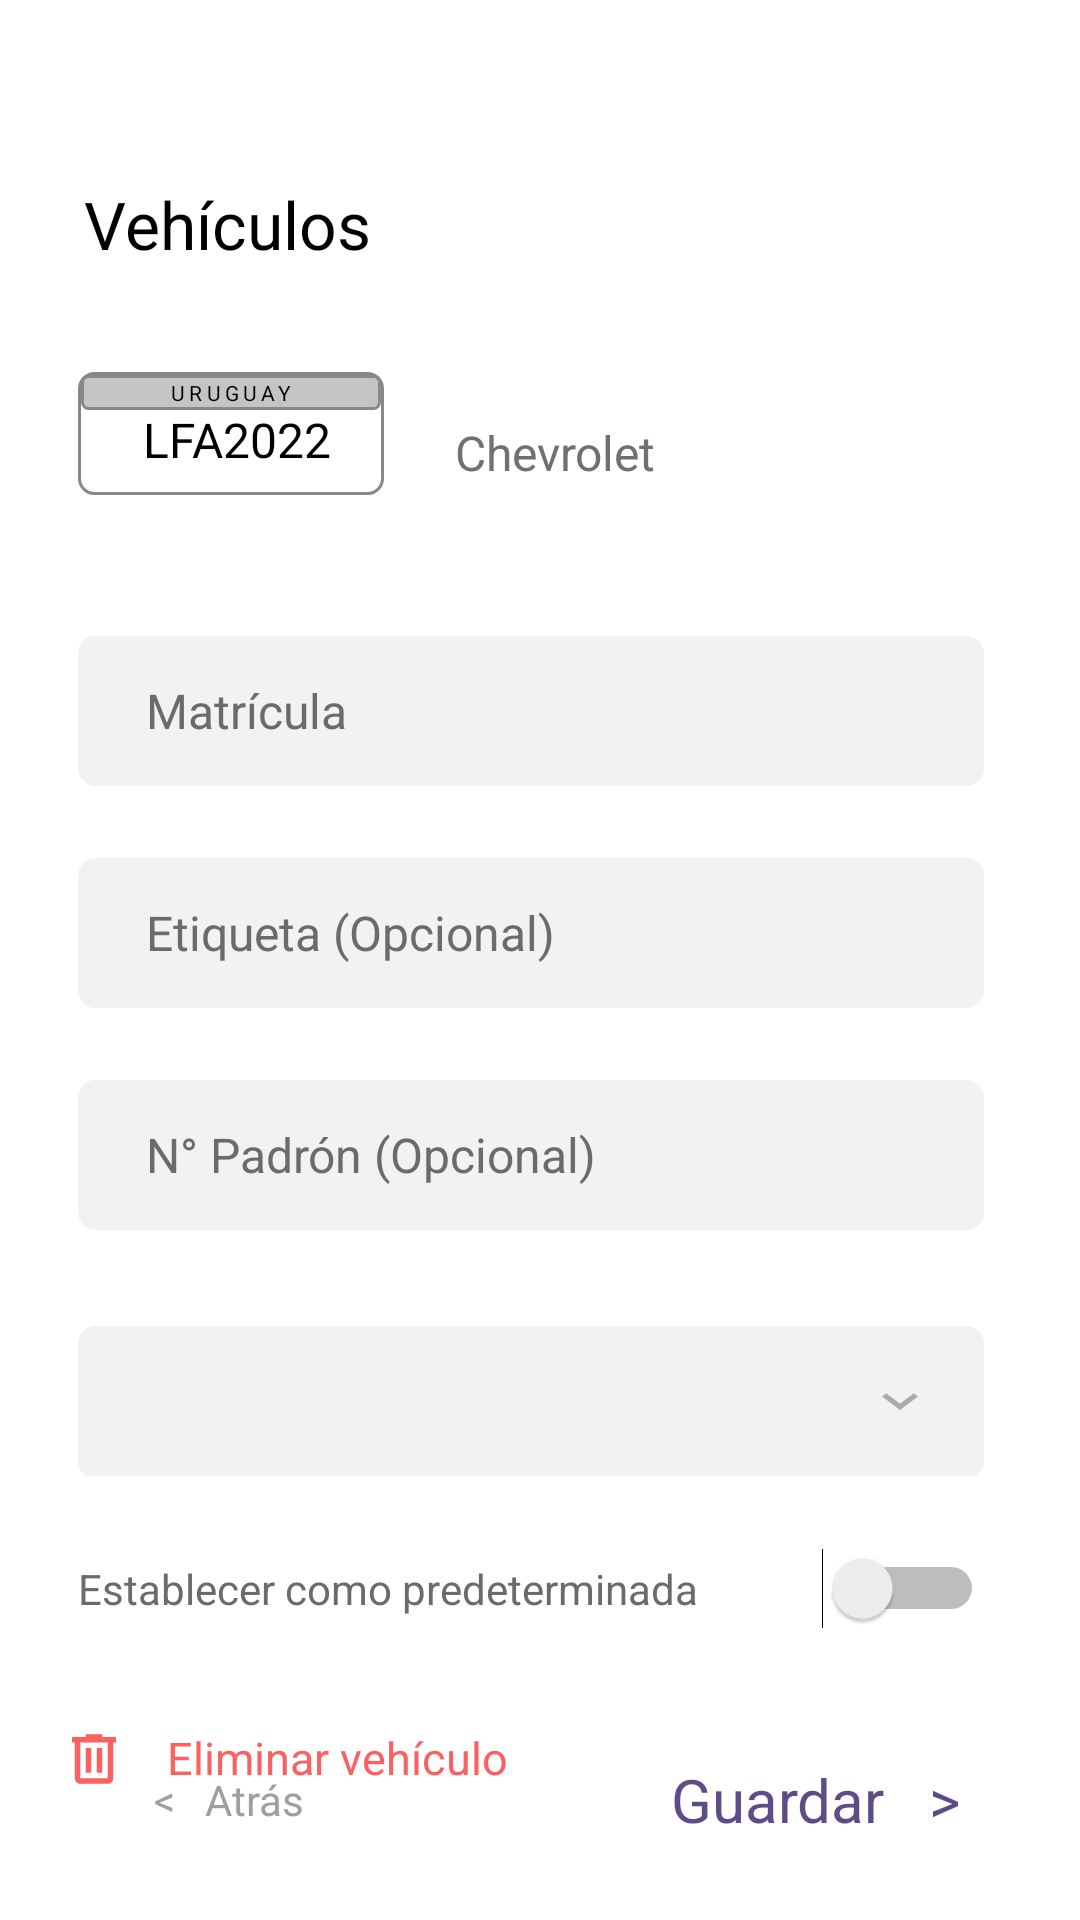

Locate icon controls on the screen. Image size 1080*1920, boxes as [x1,y1,x2,y2].
delete: [72,1734,116,1784]
down arrow: [882,1393,918,1410]
